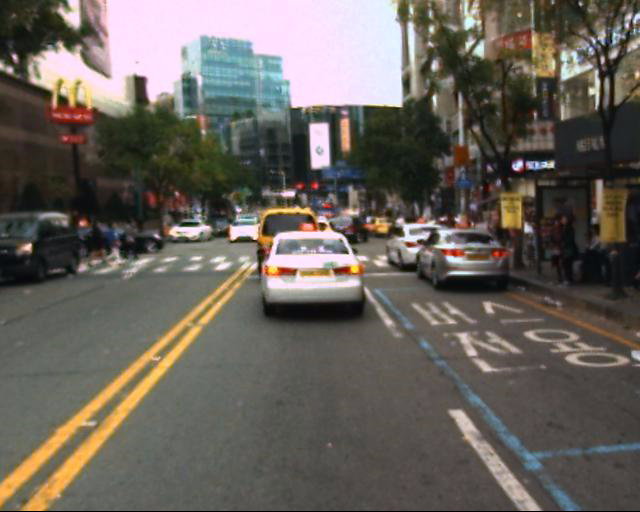person: (543, 211, 578, 292), (554, 207, 580, 297), (98, 213, 136, 274), (86, 212, 113, 275), (120, 210, 145, 260)
